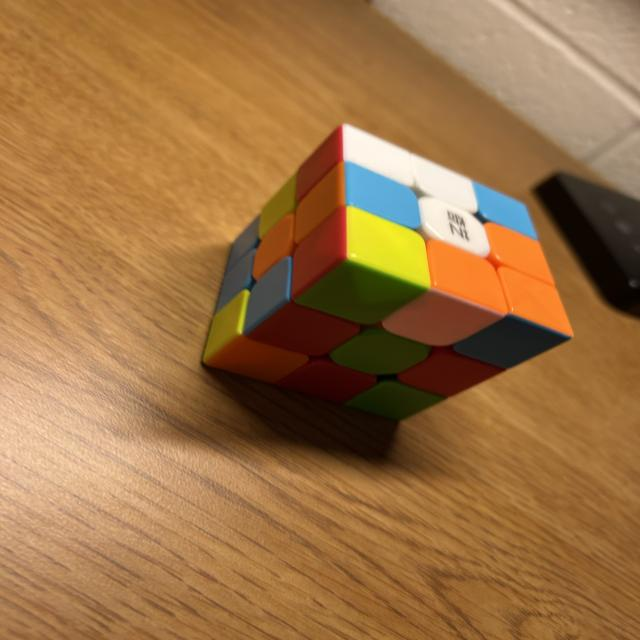Rubiks Cube: (201, 124, 573, 423)
